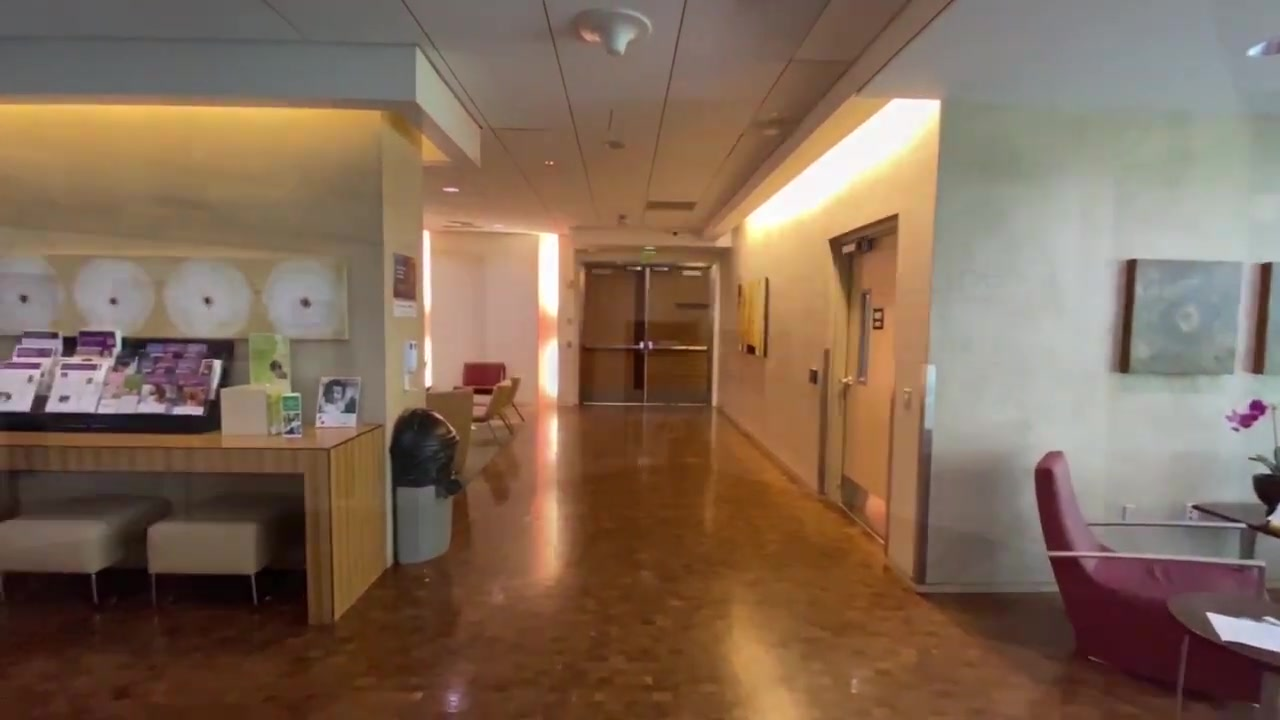chair: (1, 495, 172, 607), (147, 493, 280, 607), (473, 383, 512, 441), (503, 375, 525, 423)
dispenser: (403, 340, 418, 392)
door_handle: (838, 376, 854, 385)
push_latch: (654, 344, 708, 351), (583, 344, 640, 350)
sofa: (1033, 451, 1265, 711), (462, 361, 506, 386)
table: (1, 409, 388, 627), (1167, 590, 1280, 720), (1189, 501, 1280, 561)
waste_bin: (391, 408, 461, 564)
